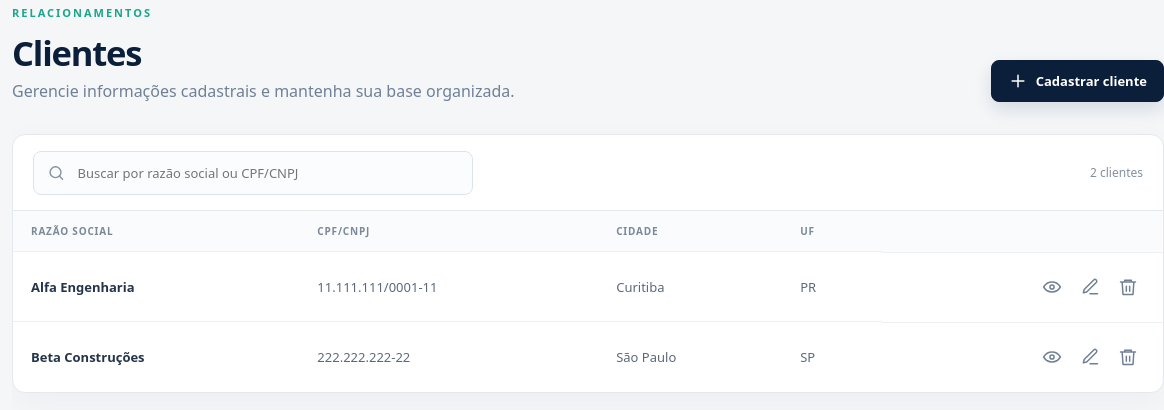
Test: módulo de clientes › pesquisa por razão social e documento
The width and height of the screenshot is (1164, 410).
Expected: the text "Alfa Engenharia" is shown, [31,278,135,296]
Type "222.222" into the field named "Pesquisar clientes" at point(267, 173), box [76,163,459,183]
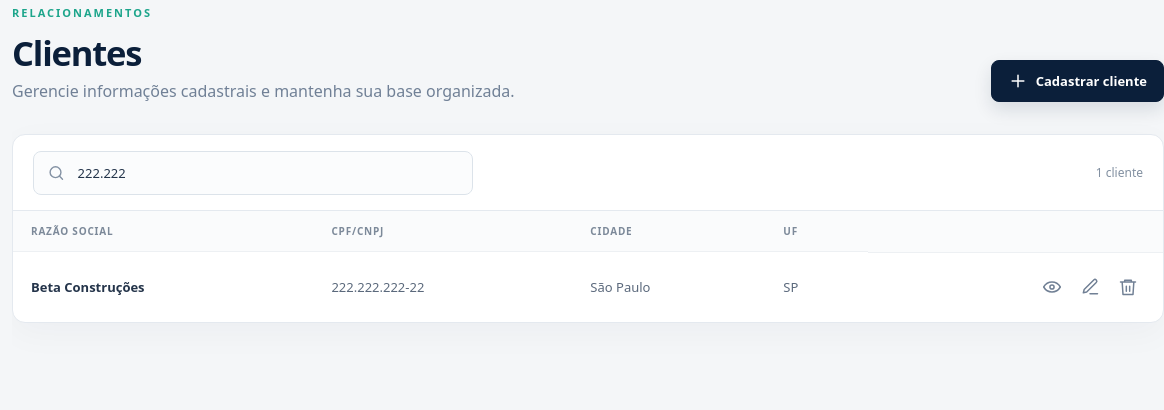
Expected: the text "Beta Construções" is shown, [31,278,145,296]
Now the text "Alfa Engenharia" is gone
